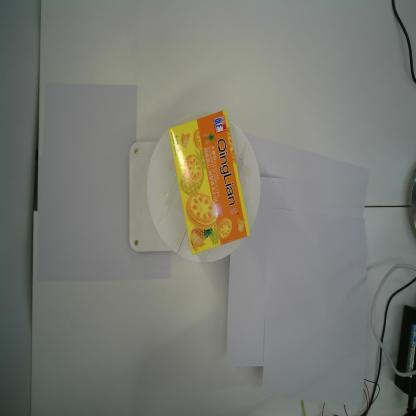Dessert: (167, 107, 252, 258)
